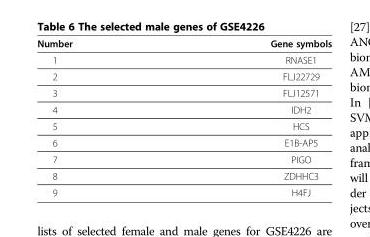table: (36, 37, 331, 197)
table column: (170, 37, 331, 197), (36, 37, 170, 197)
table column header: (36, 37, 331, 51)
table row: (36, 67, 331, 84), (36, 84, 331, 101), (36, 117, 331, 134), (36, 150, 331, 167), (36, 51, 331, 67), (36, 101, 331, 117), (36, 134, 331, 150), (36, 167, 331, 183), (36, 37, 331, 51), (36, 183, 331, 197)
